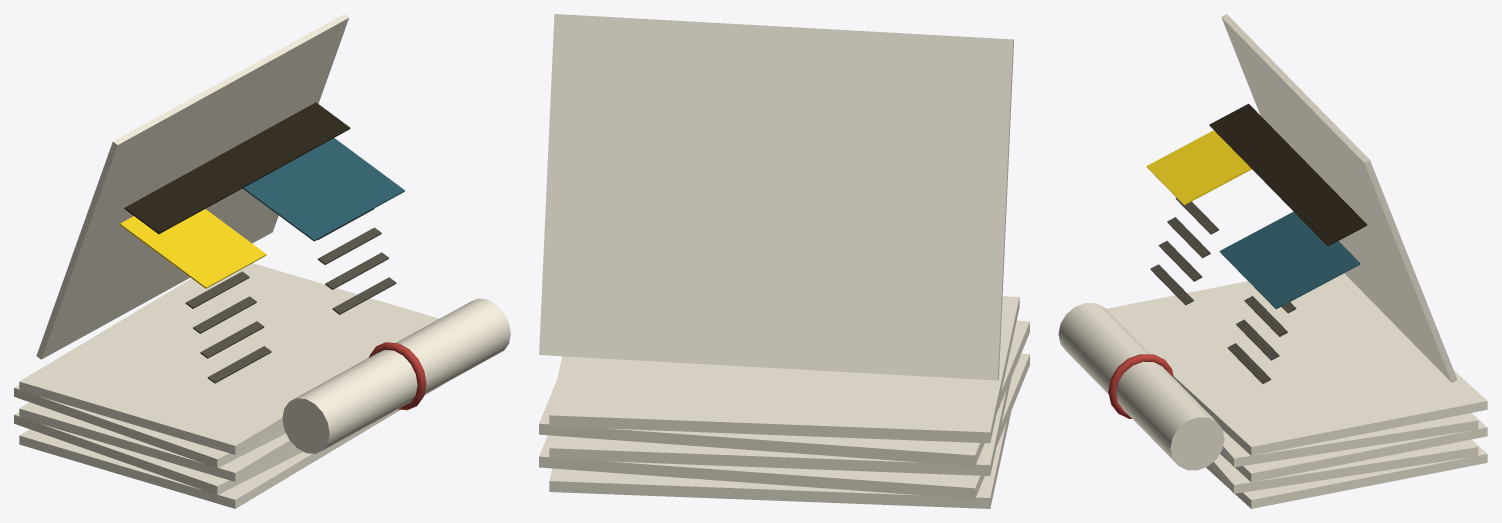
File: newspaper.glb
3 renders of one model, left to right at view 1: azimuth 30°, elevation 25°; view 2: azimuth 150°, elevation 25°; view 3: azimuth 270°, elevation 25°, orthographic. The views are drawn at different scales.
Bounding box in the file's own units: 1.42 × 1.12 × 1.32.
